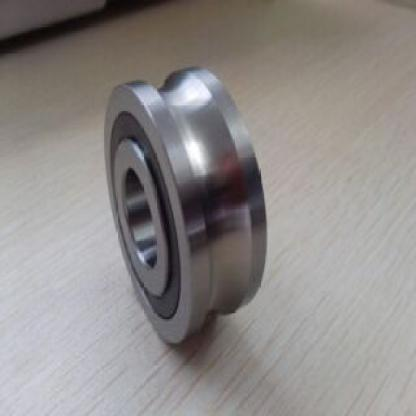FOD: (102, 60, 272, 351)
